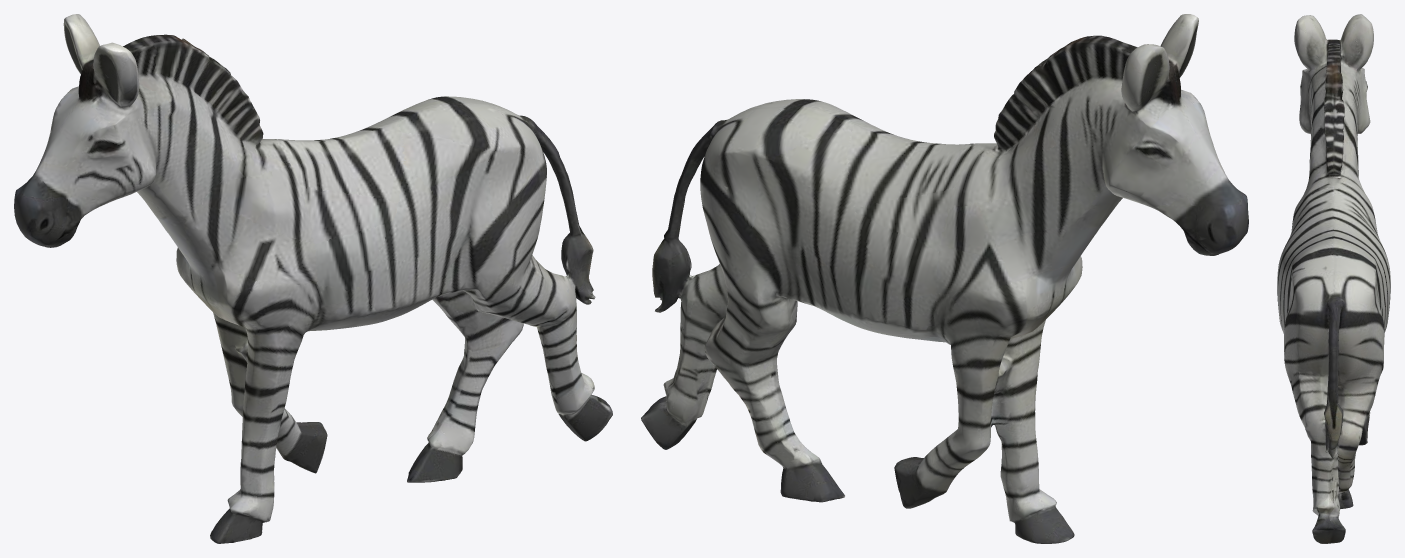
3 renders of one model, left to right at view 1: azimuth 30°, elevation 25°; view 2: azimuth 150°, elevation 25°; view 3: azimuth 270°, elevation 25°, orthographic. The views are drawn at different scales.
Size of the model in its own units: 2 by 1.76 by 0.4899.
1 material, 1 textured.
